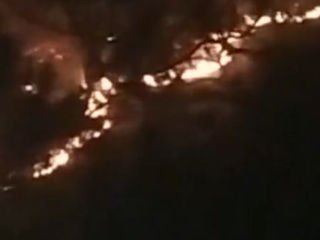fire: (140, 31, 246, 88), (74, 71, 125, 149), (13, 137, 74, 183), (242, 4, 320, 31)
